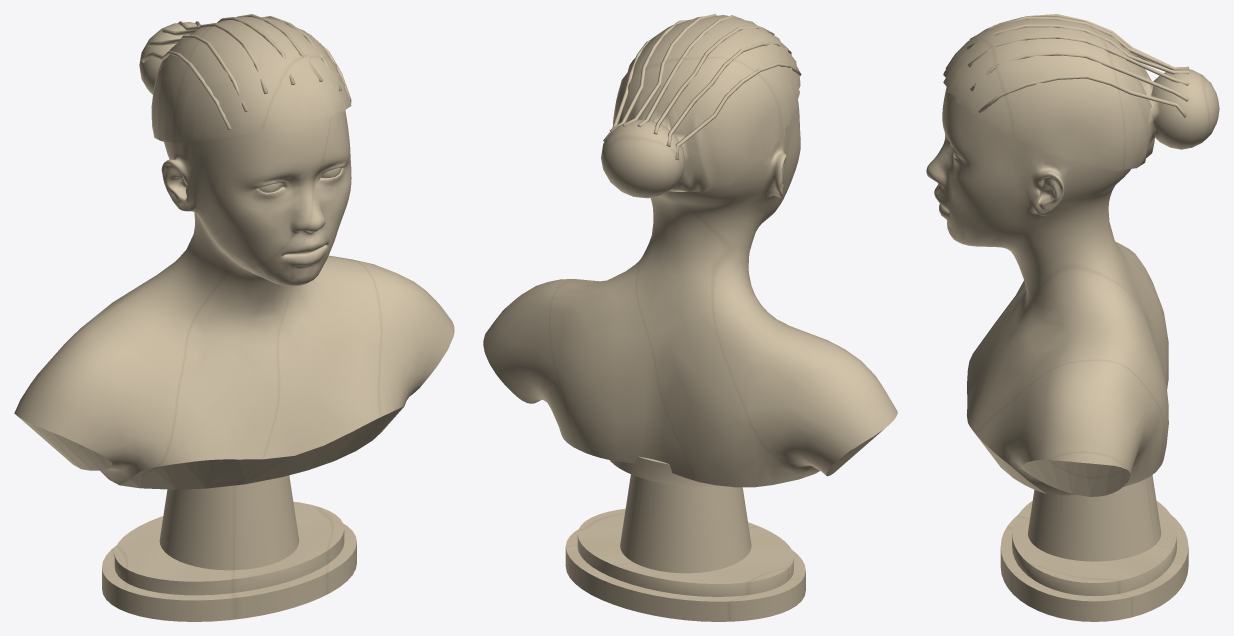
Rendered from female_bust.glb.
The picture shows the model from 3 angles, left to right: view 1: azimuth 30°, elevation 25°; view 2: azimuth 150°, elevation 25°; view 3: azimuth 270°, elevation 25°; orthographic projection. The views are drawn at different scales.
Visible parts, largest first — view 1: Classical shoulder bust, Turned socle and stepped oval foot, Solid waved hair with rear bun, Raised swept carved hair locks; view 2: Classical shoulder bust, Turned socle and stepped oval foot, Solid waved hair with rear bun, Raised swept carved hair locks; view 3: Classical shoulder bust, Solid waved hair with rear bun, Turned socle and stepped oval foot, Raised swept carved hair locks.
Boxes of the visible parts, x1,y1,x2,y2 form: Classical shoulder bust: [14, 111, 454, 489]; Turned socle and stepped oval foot: [102, 475, 356, 621]; Solid waved hair with rear bun: [139, 16, 351, 142]; Raised swept carved hair locks: [141, 14, 351, 130]; Classical shoulder bust: [483, 100, 897, 487]; Turned socle and stepped oval foot: [565, 456, 805, 621]; Solid waved hair with rear bun: [601, 15, 800, 198]; Raised swept carved hair locks: [603, 14, 801, 160]; Classical shoulder bust: [926, 87, 1168, 496]; Solid waved hair with rear bun: [943, 15, 1219, 170]; Turned socle and stepped oval foot: [1000, 475, 1188, 621]; Raised swept carved hair locks: [966, 14, 1189, 117].
Size of the model in its own units: 0.4538 by 0.5805 by 0.2841.
1 material, 1 textured.
